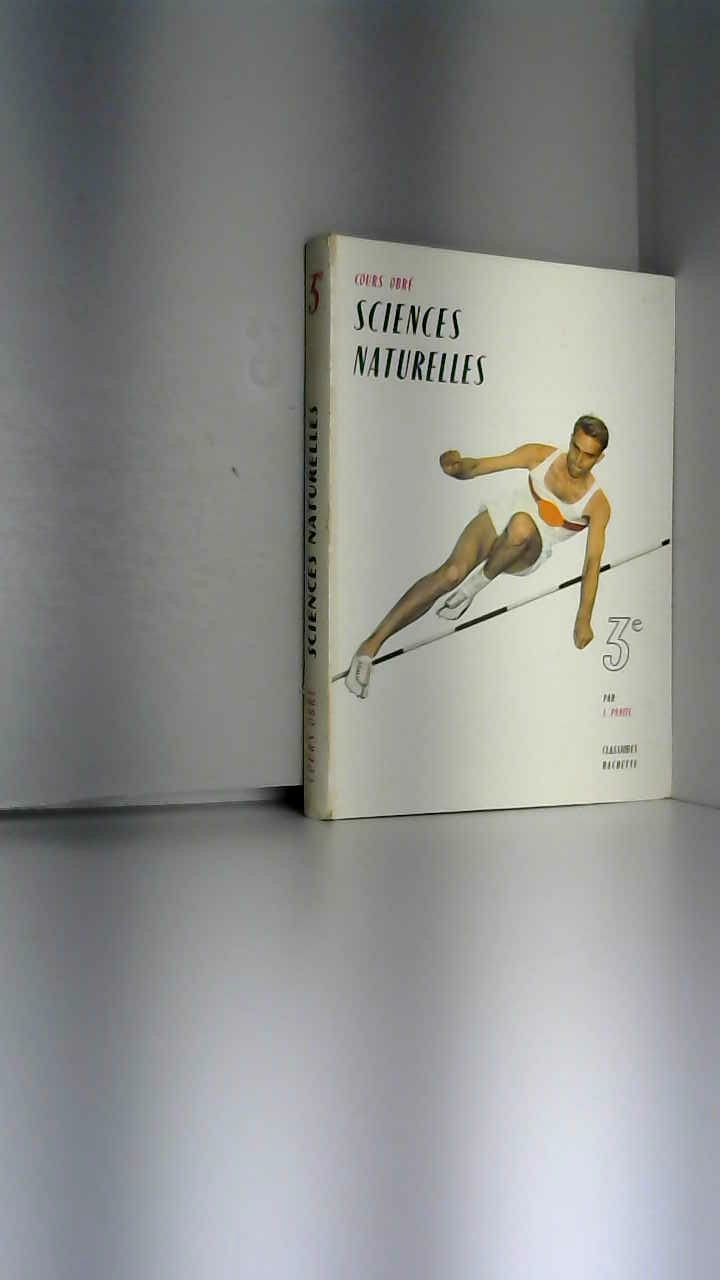book: (270, 210, 719, 849)
